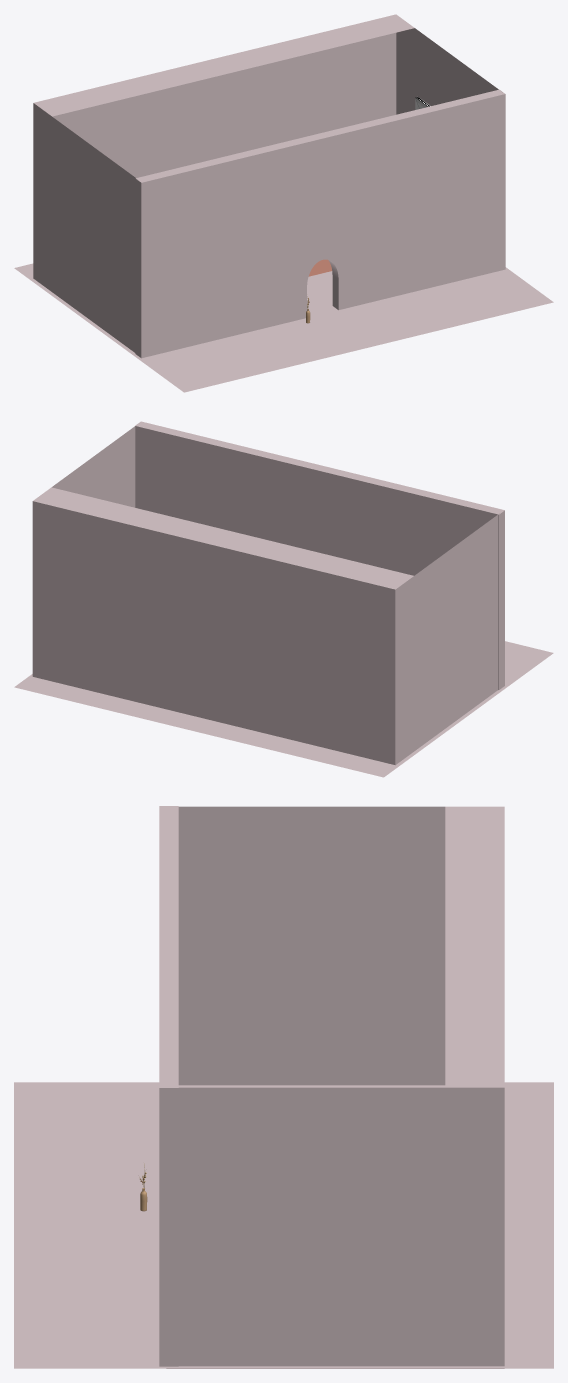
File: home_model.glb
The picture shows the model from 3 angles, top to bottom: view 1: azimuth 30°, elevation 25°; view 2: azimuth 150°, elevation 25°; view 3: azimuth 270°, elevation 25°; orthographic projection. The views are drawn at different scales.
Visible parts, largest first — view 1: room_walls, front_walll; view 2: room_walls, front_walll; view 3: room_walls, front_walll.
Boxes of the visible parts, x1=… form: room_walls: x1=14, y1=14, x2=553, y2=392; front_walll: x1=135, y1=89, x2=505, y2=358; room_walls: x1=14, y1=426, x2=553, y2=777; front_walll: x1=135, y1=421, x2=504, y2=689; room_walls: x1=14, y1=806, x2=553, y2=1368; front_walll: x1=159, y1=806, x2=178, y2=1366.
Bounding box in the file's own units: 15.41 × 7.06 × 12.28.
14 materials, 4 textured.
